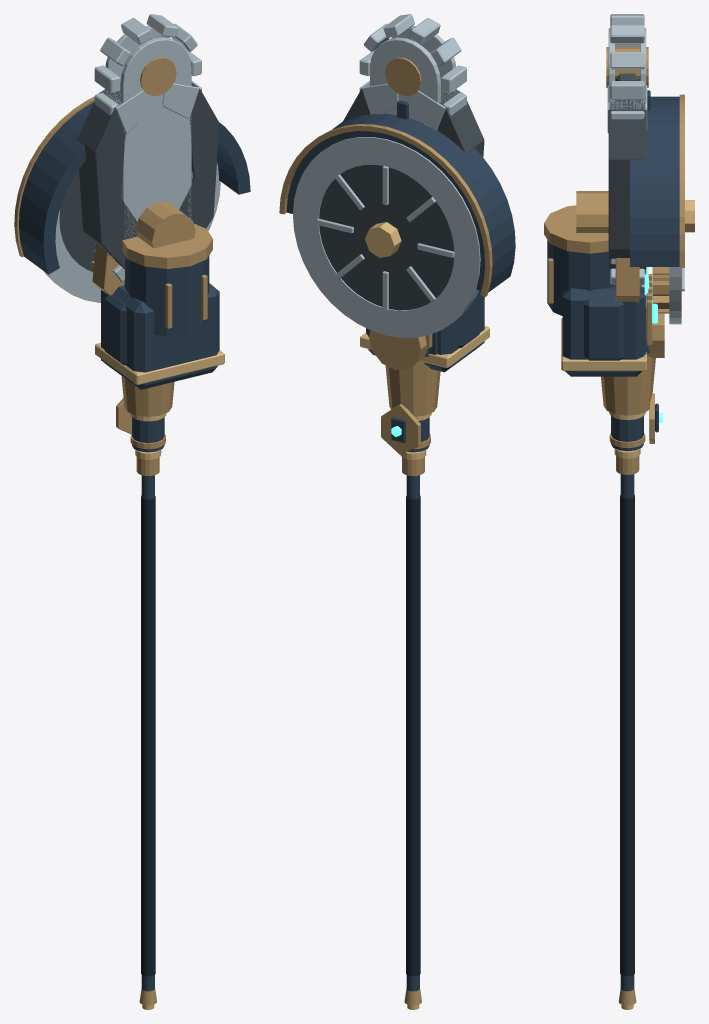
The model's file is staff_parts.glb.
3 renders of one model, left to right at view 1: azimuth 30°, elevation 25°; view 2: azimuth 150°, elevation 25°; view 3: azimuth 270°, elevation 25°, orthographic.
Parts seen in each view (by area): view 1: saw_guide_back, grinder_guard, cutter_jaw_l, grip_sleeve, grinder_motor, saw_motor, cutter_jaw_r, grinder_disc, grinder_axle, core_receiver, cutter_saddle, ornament_mount (+5 smaller); view 2: grinder_disc, grinder_guard, grip_sleeve, cutter_jaw_l, saw_guide_front, core_receiver, saw_motor, grinder_mount, cutter_jaw_r, seal_plate, saw_nose, cutter_saddle (+3 smaller); view 3: grinder_guard, grip_sleeve, saw_motor, grinder_motor, cutter_jaw_r, cutter_saddle, core_receiver, grinder_axle, ornament_mount, grinder_disc, cutter_link_r, saw_gear (+8 smaller).
Boxes of the visible parts, left/top/right/bottom form: saw_guide_back: left=120, top=37, right=191, bottom=238; grinder_guard: left=14, top=96, right=250, bottom=274; cutter_jaw_l: left=77, top=83, right=152, bottom=269; grip_sleeve: left=141, top=495, right=155, bottom=976; grinder_motor: left=122, top=223, right=212, bottom=336; saw_motor: left=95, top=284, right=224, bottom=389; cutter_jaw_r: left=162, top=82, right=219, bottom=228; grinder_disc: left=44, top=162, right=220, bottom=302; grinder_axle: left=136, top=202, right=195, bottom=248; core_receiver: left=121, top=376, right=174, bottom=416; cutter_saddle: left=105, top=283, right=213, bottom=365; ornament_mount: left=130, top=413, right=166, bottom=452; grinder_disc: left=293, top=137, right=480, bottom=337; grinder_guard: left=279, top=114, right=515, bottom=297; grip_sleeve: left=406, top=495, right=420, bottom=976; cutter_jaw_l: left=408, top=83, right=484, bottom=157; saw_guide_front: left=370, top=37, right=440, bottom=130; core_receiver: left=385, top=348, right=440, bottom=416; saw_motor: left=360, top=291, right=489, bottom=372; grinder_mount: left=369, top=330, right=437, bottom=370; cutter_jaw_r: left=342, top=82, right=398, bottom=122; seal_plate: left=381, top=404, right=420, bottom=454; saw_nose: left=385, top=49, right=433, bottom=95; cutter_saddle: left=457, top=291, right=479, bottom=347; grinder_guard: left=630, top=94, right=684, bottom=267; grip_sleeve: left=620, top=495, right=634, bottom=976; saw_motor: left=561, top=274, right=652, bottom=376; grinder_motor: left=544, top=205, right=615, bottom=315; cutter_jaw_r: left=607, top=85, right=647, bottom=269; cutter_saddle: left=584, top=298, right=624, bottom=360; core_receiver: left=601, top=329, right=655, bottom=415; grinder_axle: left=576, top=191, right=608, bottom=232; ornament_mount: left=609, top=411, right=645, bottom=451; grinder_disc: left=669, top=200, right=694, bottom=324; cutter_link_r: left=615, top=258, right=639, bottom=302; saw_gear: left=652, top=267, right=669, bottom=313.
Size of the model in its own units: 0.3559 by 1.59 by 0.2205.
